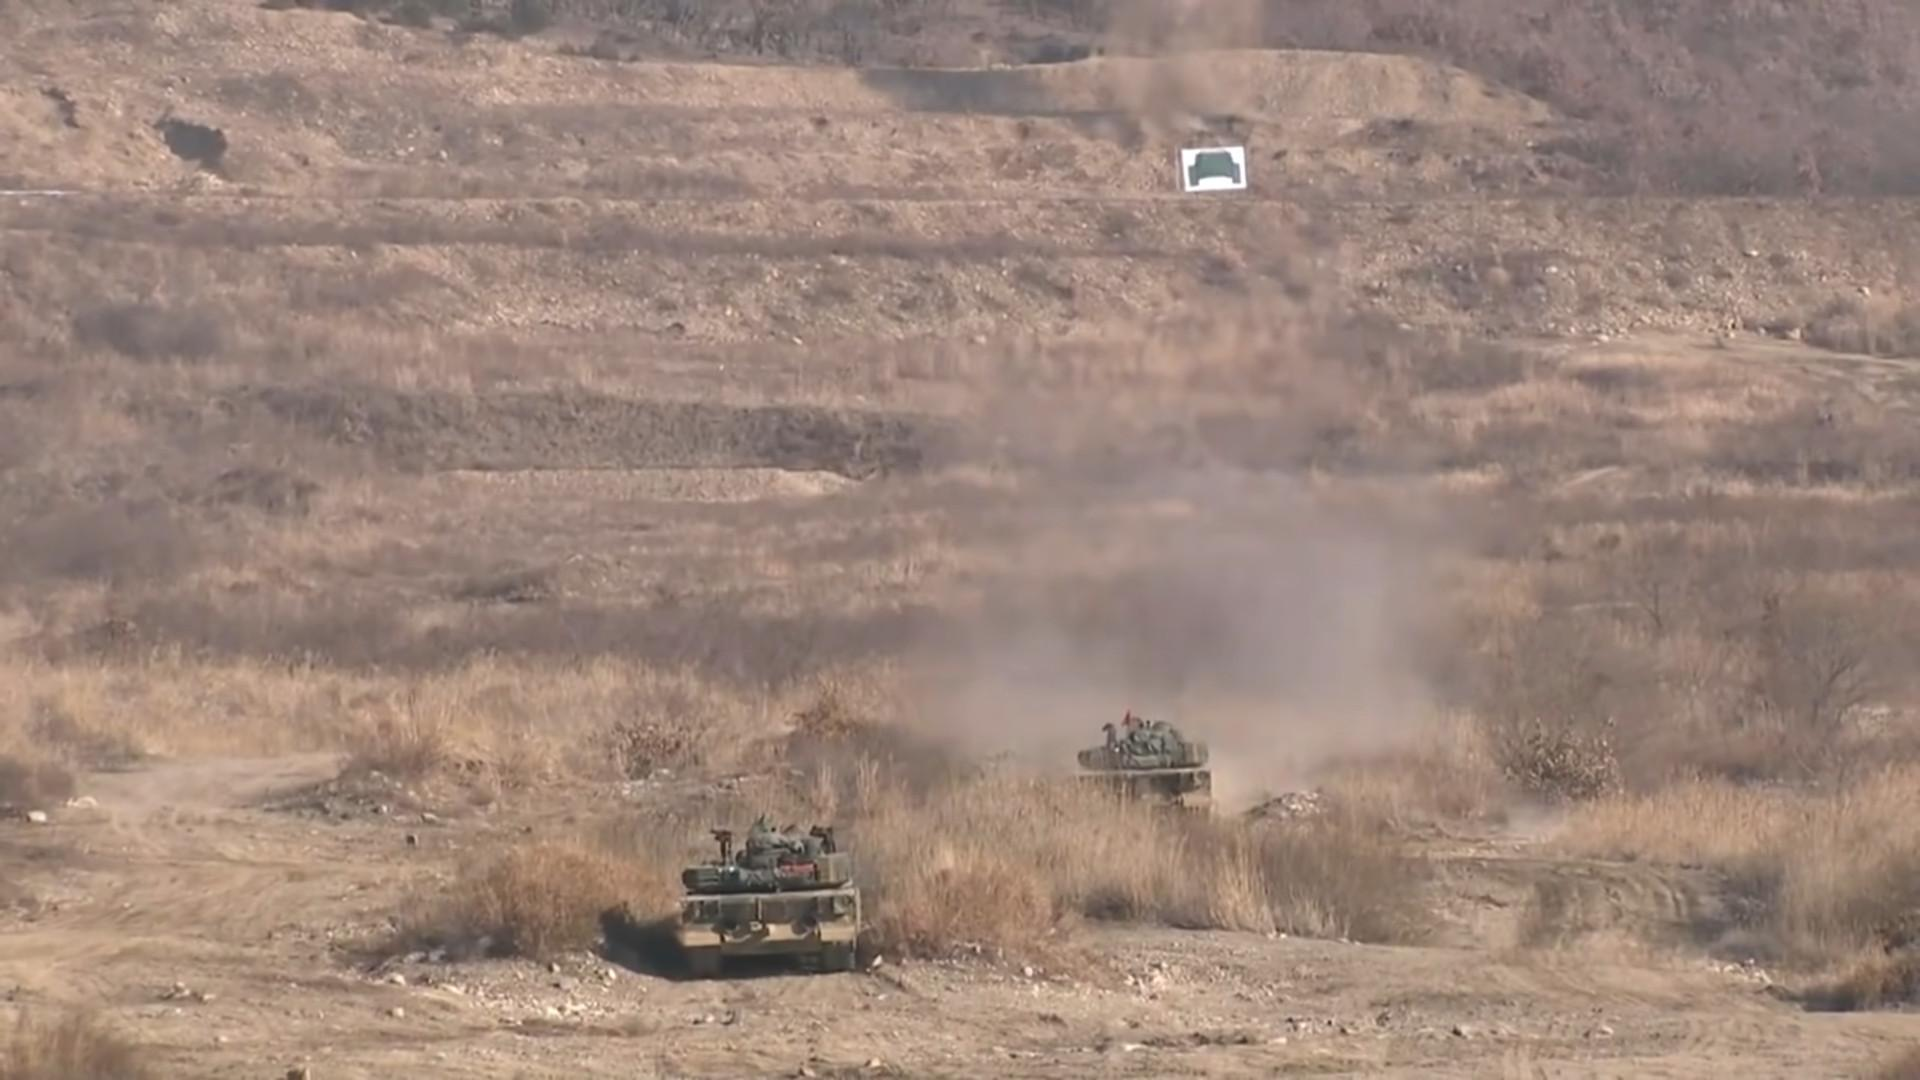tank: (675, 824, 864, 980), (1077, 717, 1217, 823)
